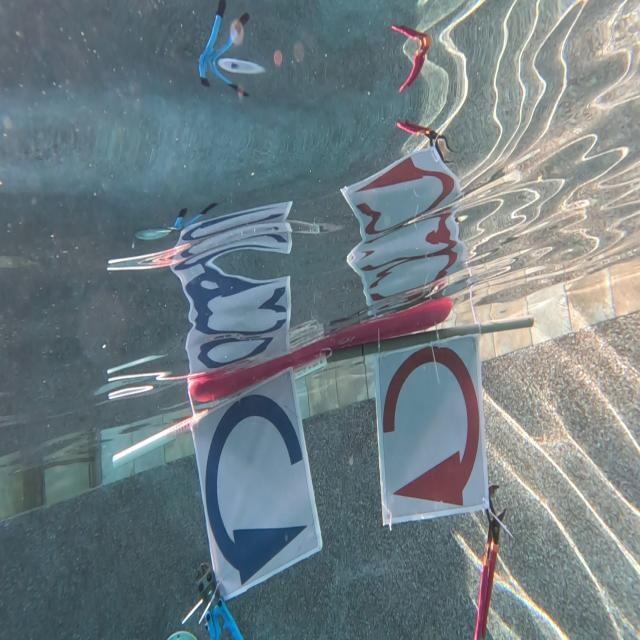blue_side: (195, 363, 325, 601)
red_side: (373, 336, 489, 526)
